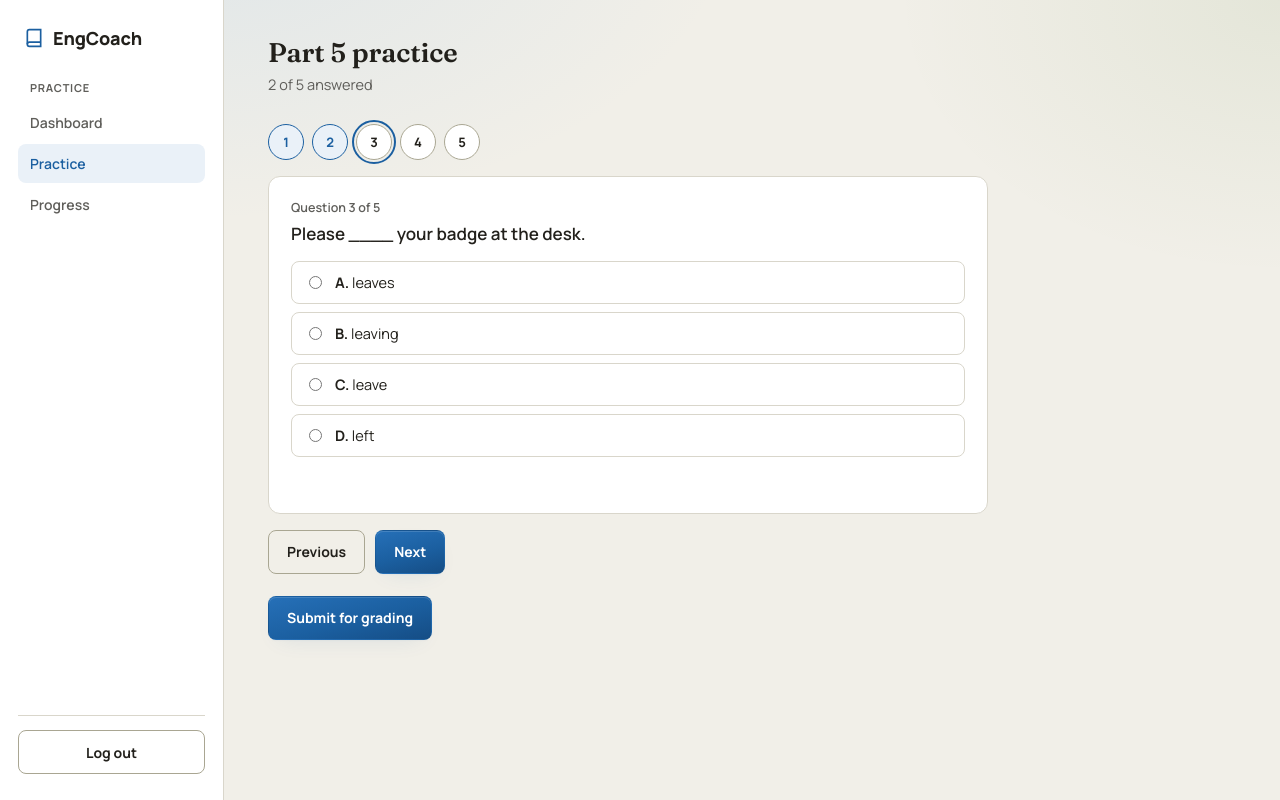
Test screen (S7b) › restores saved answers after a refresh and resumes at the first unanswered question
This screenshot has width=1280, height=800.
Expected: the text "Question 3 of 5" is shown, [291, 199, 380, 216]
Expected: the text "2 of 5 answered" is shown, [268, 75, 372, 94]
Click the button named "Question 1, answered" at {"x": 286, "y": 142}, box [268, 124, 304, 160]
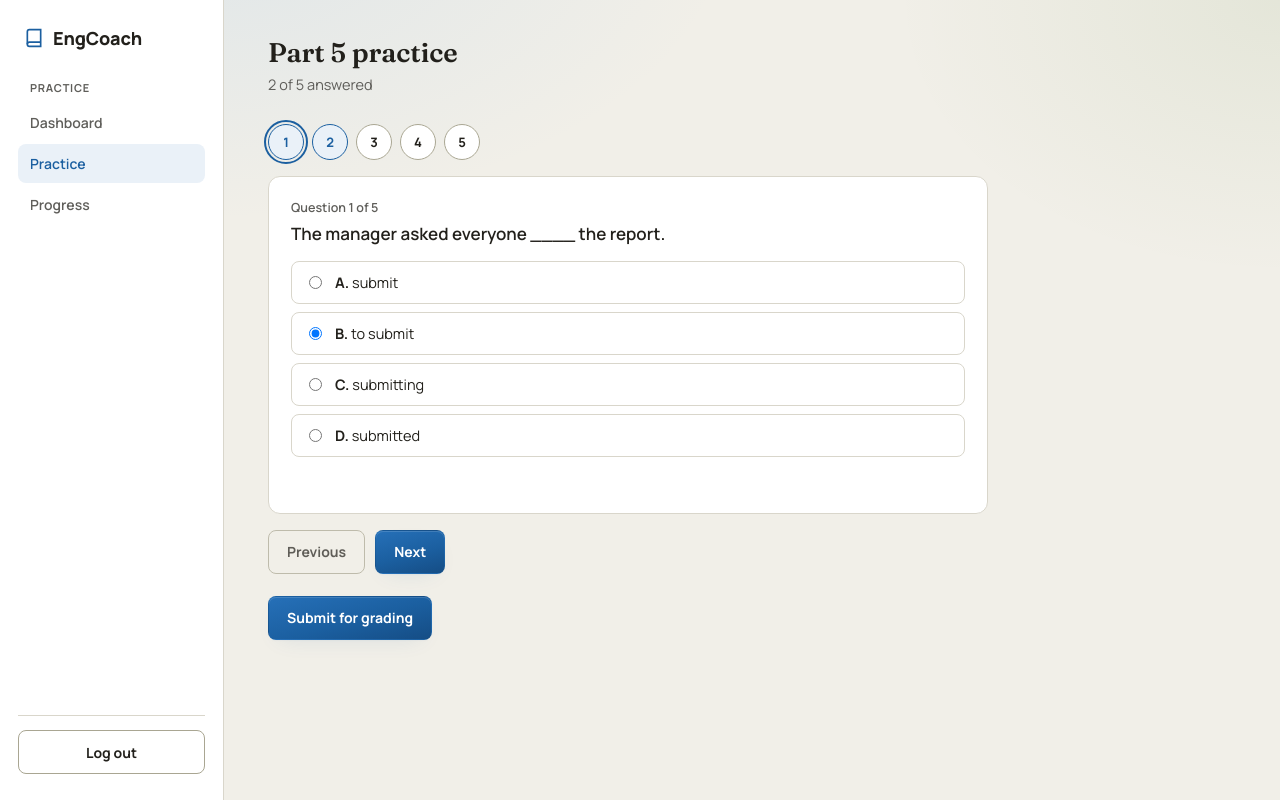
Expected: the radio button labelled "B. to submit" is checked, [309, 327, 322, 340]
